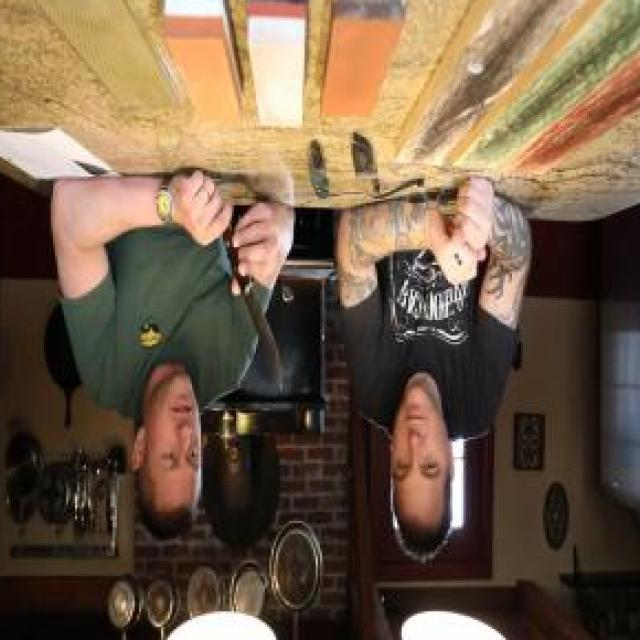knife: (212, 219, 291, 415)
